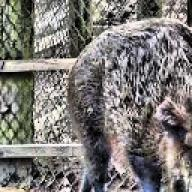boar: (64, 15, 192, 192)
